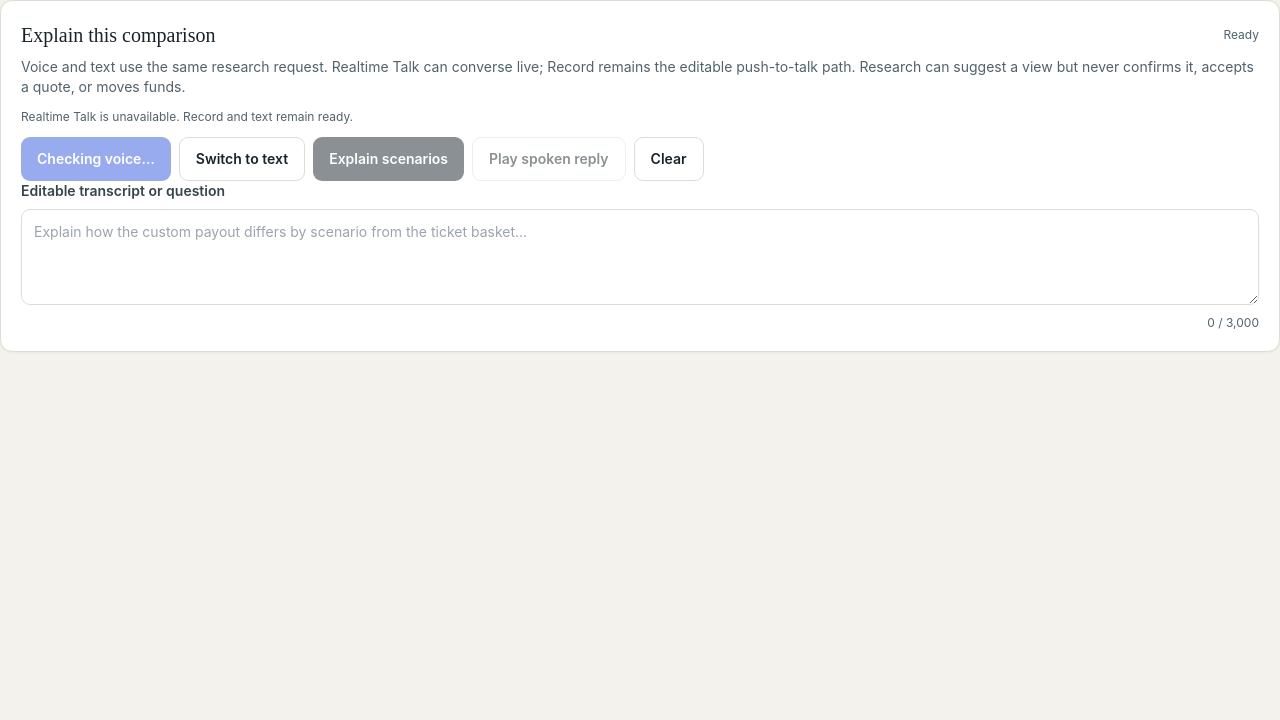
Scenario: VoicePanel interaction flows › routes comparison scenario questions through that same action
Step 1. Replace the text in the text box with placeholder "Explain how the custom payout differs" with "Compare the basket payouts across scenarios." → (640, 257), box top-left (21, 209), bottom-right (1259, 305)
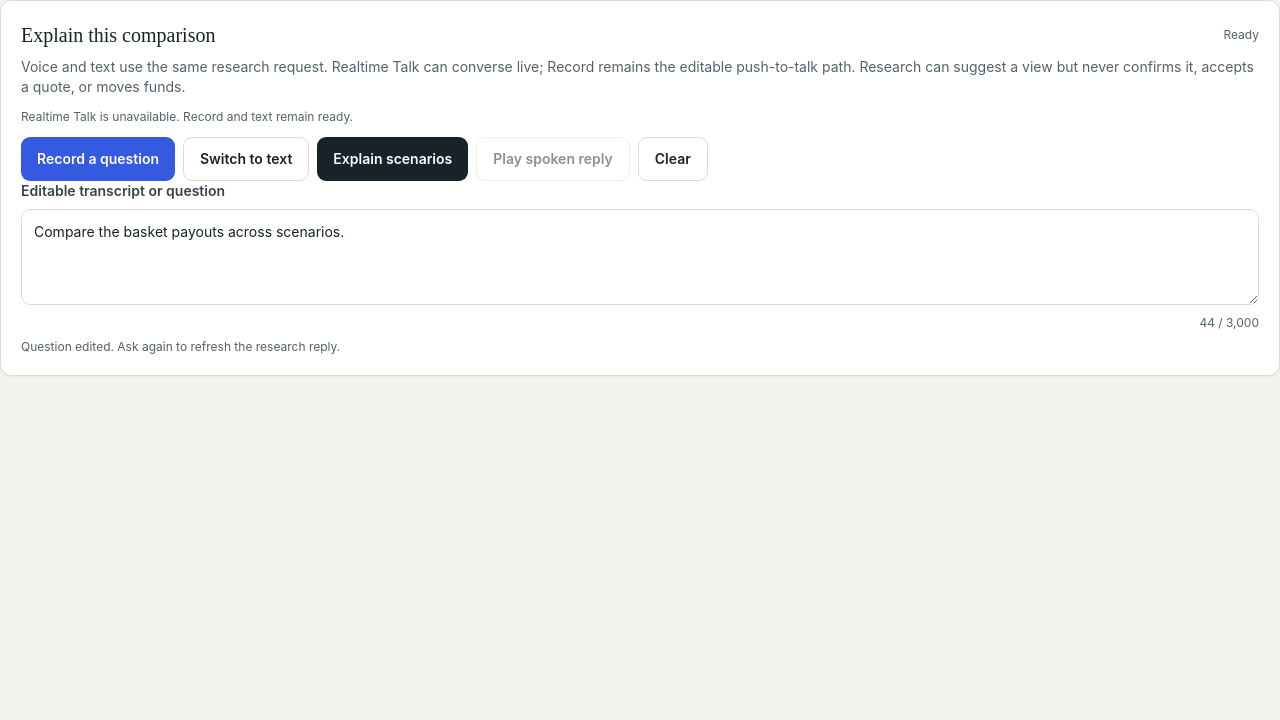
Step 2. Click the button "Explain scenarios" → click(393, 159), box top-left (317, 137), bottom-right (468, 181)
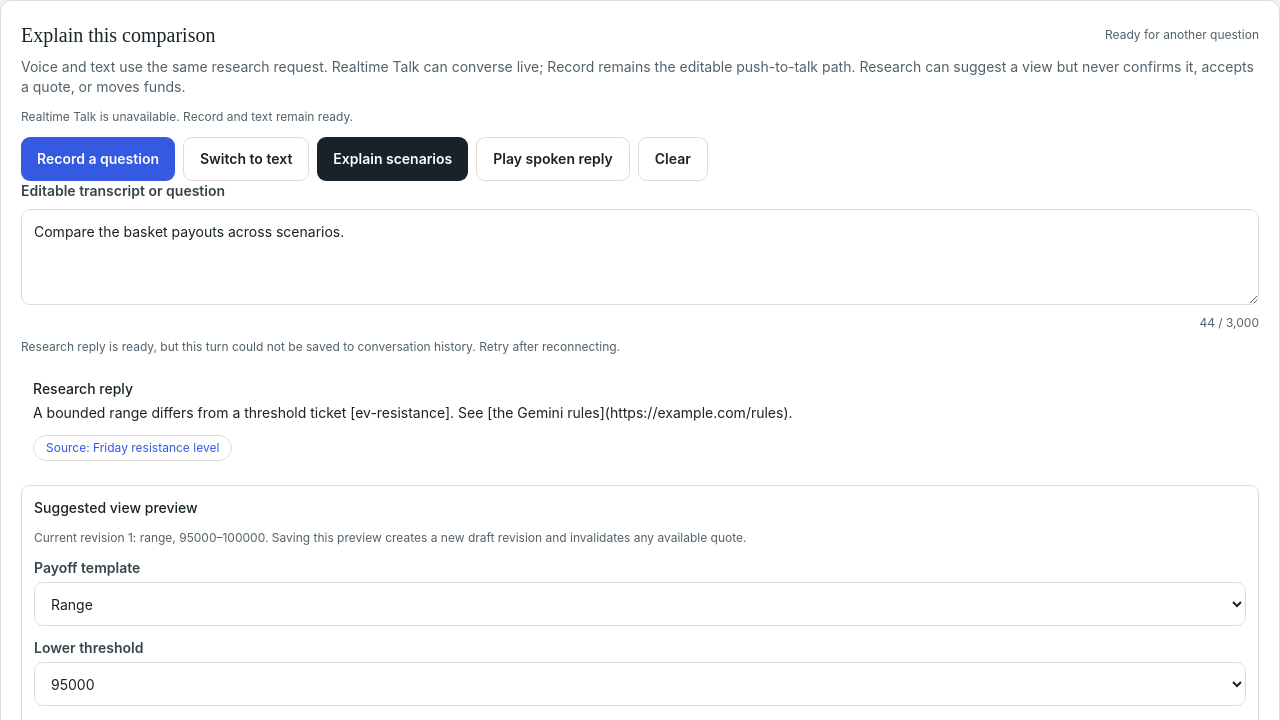
expect the text "A bounded range differs from a threshold ticket" is shown: met, box top-left (33, 404), bottom-right (793, 421)
